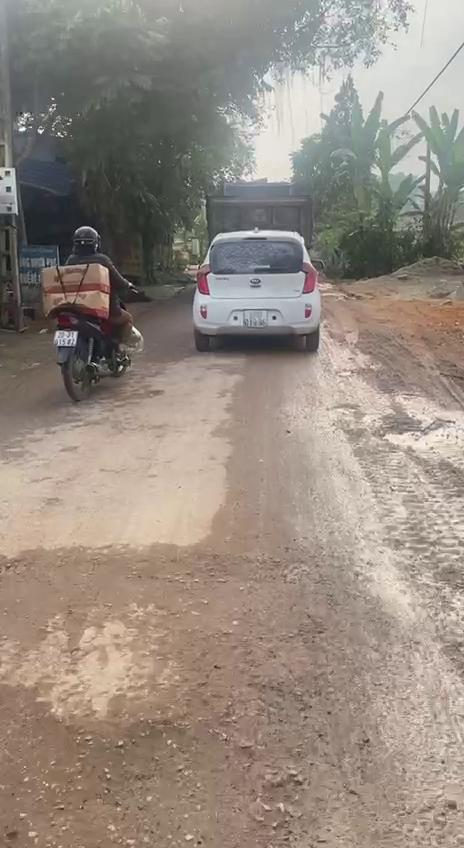pothole: (0, 679, 274, 848), (0, 551, 286, 633), (382, 424, 464, 461)
